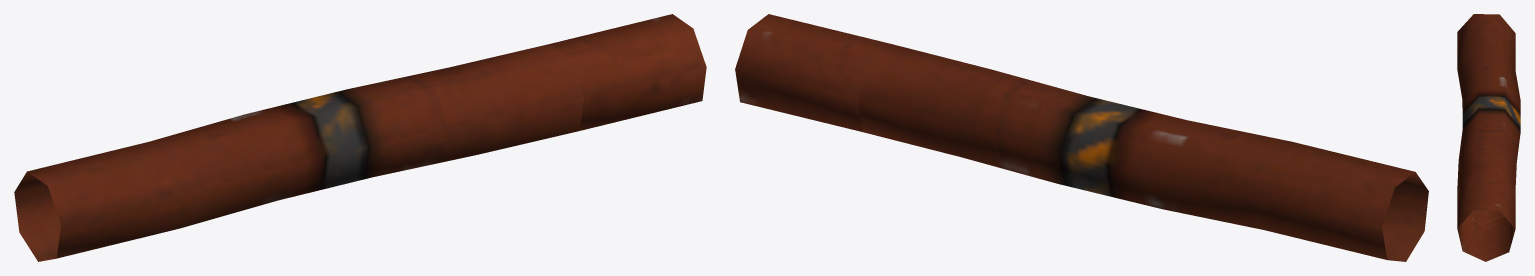
Rendered from lab_thick_straight_small_orange.dae.
3 renders of one model, left to right at view 1: azimuth 30°, elevation 25°; view 2: azimuth 150°, elevation 25°; view 3: azimuth 270°, elevation 25°, orthographic. The views are drawn at different scales.
Visible parts, largest first — view 1: straight_tiny; view 2: straight_tiny; view 3: straight_tiny.
Boxes of the visible parts, bbox=[...] form: straight_tiny: bbox=[14, 14, 706, 261]; straight_tiny: bbox=[735, 14, 1428, 261]; straight_tiny: bbox=[1457, 14, 1520, 261].
Size of the model in its own units: 1 by 0.1228 by 0.1366.
1 material, 1 textured.
